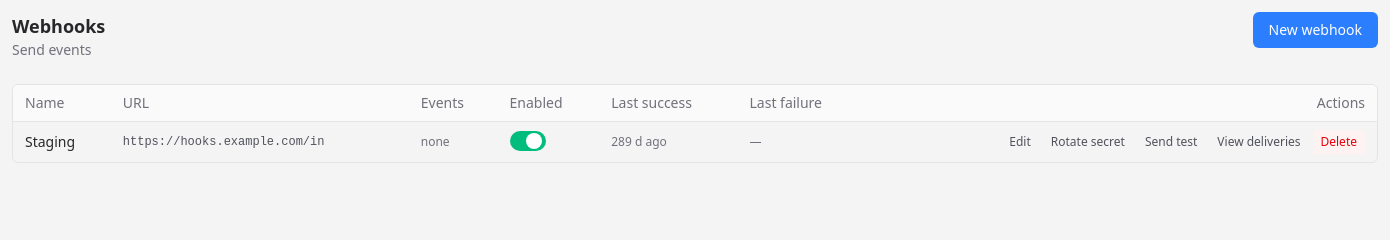
WebhooksList › refuses to send a test when no event is selected and the webhook has none
The width and height of the screenshot is (1390, 240).
Expected: the number of rows with test id "webhook-row" is 1, [13,122,1377,162]
Click the button with test id "webhook-test". click: x=1171, y=142
box: [1137,130,1205,154]
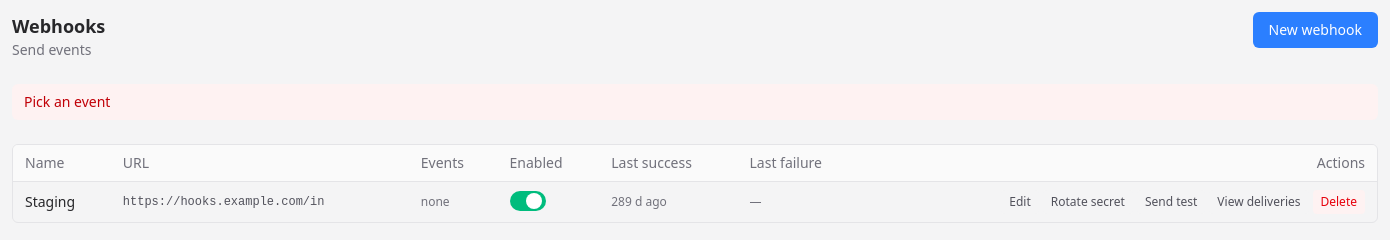
Now the message with test id "webhooks-error" reads "Pick an event", box [24,92,110,111]
